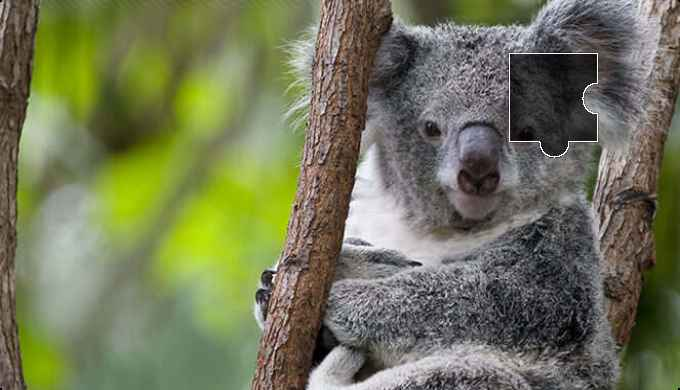gap: (508, 52, 598, 160)
